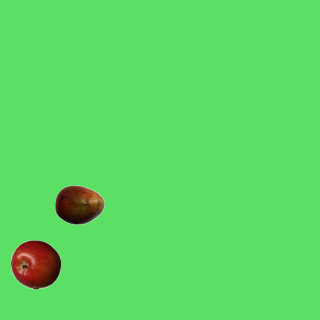Apple Braeburn: (10, 239, 60, 289)
Mango Red: (54, 179, 104, 229)
